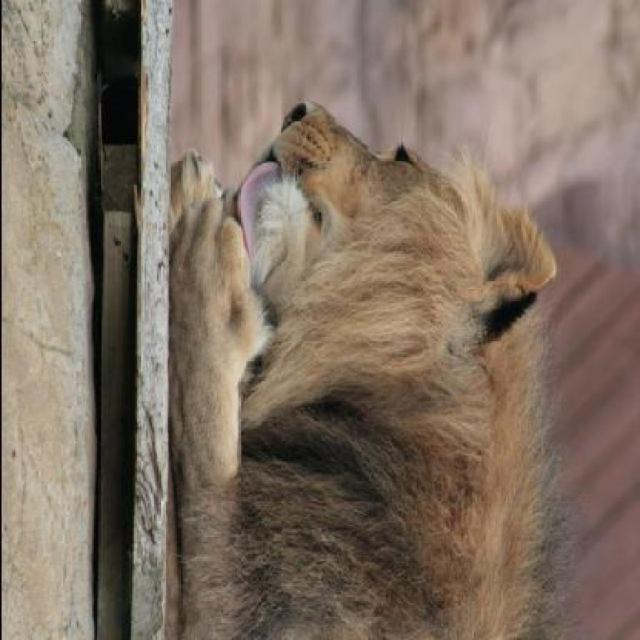Lion: (157, 60, 578, 638)
